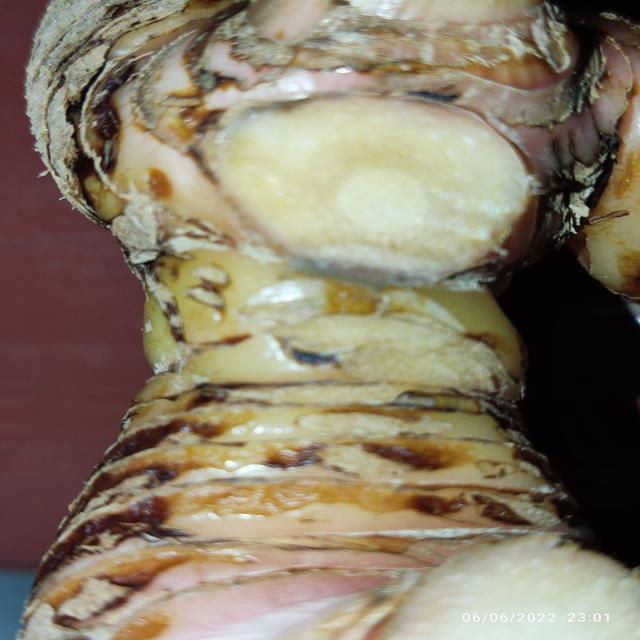ginger: (39, 2, 640, 640)
